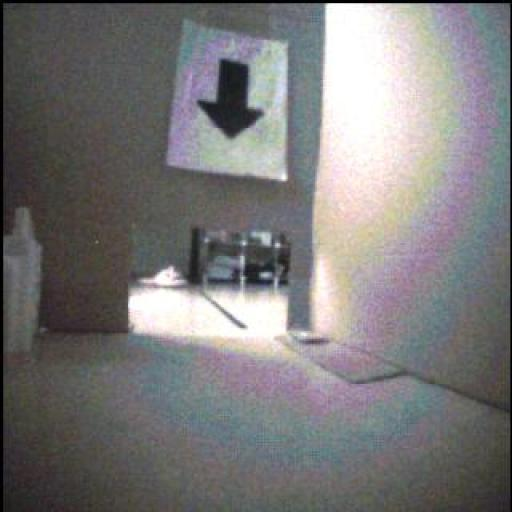arrow: (199, 60, 265, 139)
